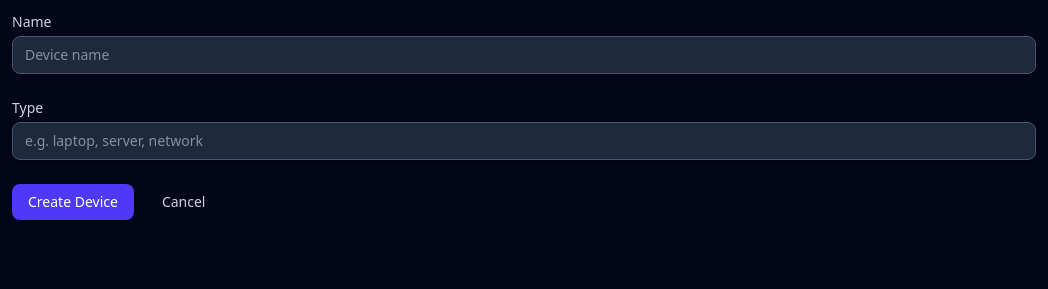
Test: DeviceForm › shows validation errors for empty required fields
Step 1. Click the button "Create Device" → coordinates (73, 202), box [12,184,134,220]
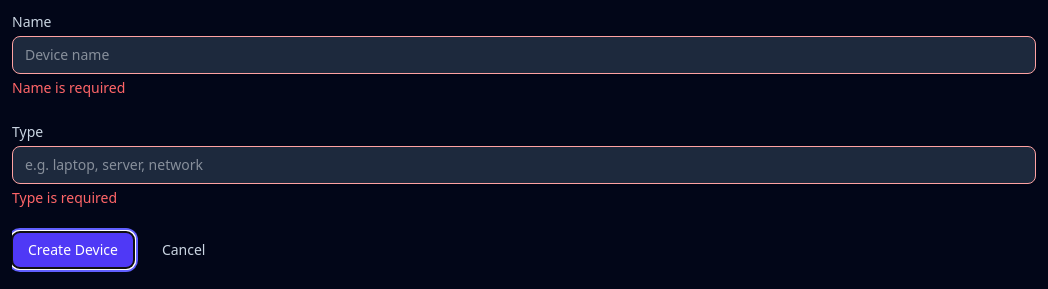
expect the text "Name is required" is shown: met, box [12,78,125,97]
expect the text "Type is required" is shown: met, box [12,188,117,207]
